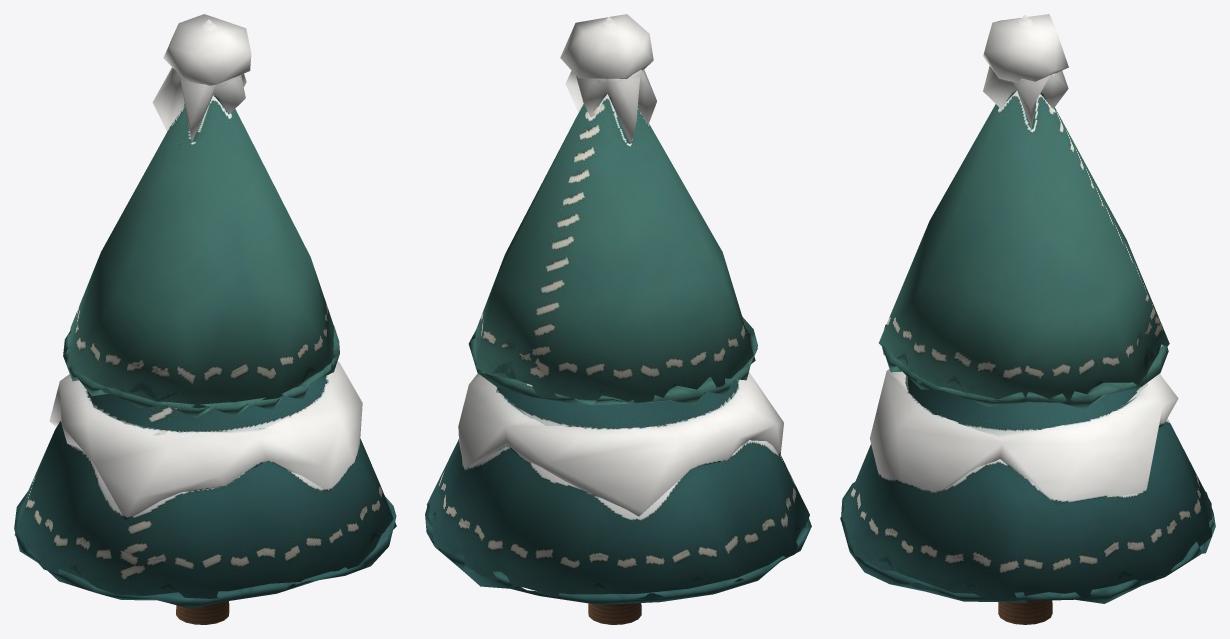
Rendered from tree_zigzag.glb.
3 views of the same model, side by side, from view 1: azimuth 30°, elevation 25°; view 2: azimuth 150°, elevation 25°; view 3: azimuth 270°, elevation 25° (orthographic).
Visible parts, largest first — view 1: prop_tree_zigzag_felt, prop_tree_zigzag_wood; view 2: prop_tree_zigzag_felt, prop_tree_zigzag_wood; view 3: prop_tree_zigzag_felt, prop_tree_zigzag_wood.
Boxes of the visible parts, x1=… form: prop_tree_zigzag_felt: x1=14, y1=14, x2=396, y2=608; prop_tree_zigzag_wood: x1=176, y1=601, x2=229, y2=624; prop_tree_zigzag_felt: x1=425, y1=14, x2=811, y2=604; prop_tree_zigzag_wood: x1=588, y1=603, x2=641, y2=624; prop_tree_zigzag_felt: x1=840, y1=14, x2=1215, y2=603; prop_tree_zigzag_wood: x1=998, y1=600, x2=1052, y2=624.
Size of the model in its own units: 3.91 by 6.56 by 3.72.
Materials: 2 (2 with a texture image).
